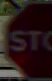Stop: (7, 11, 48, 59)
